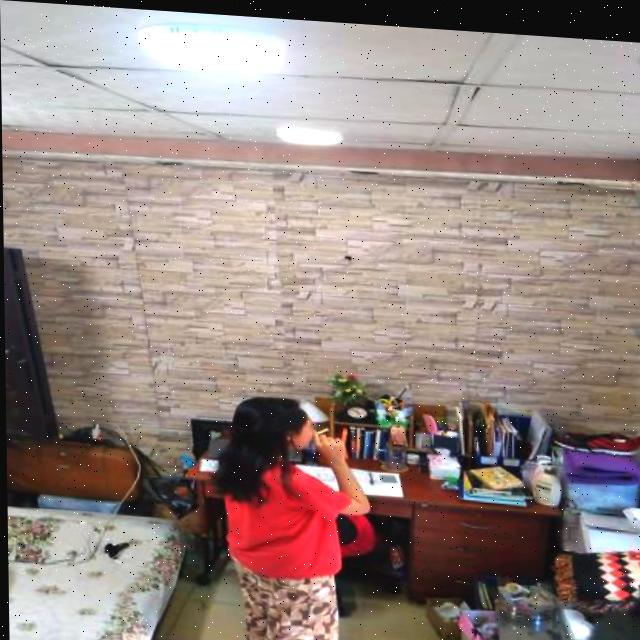cigarette: (316, 423, 329, 431)
